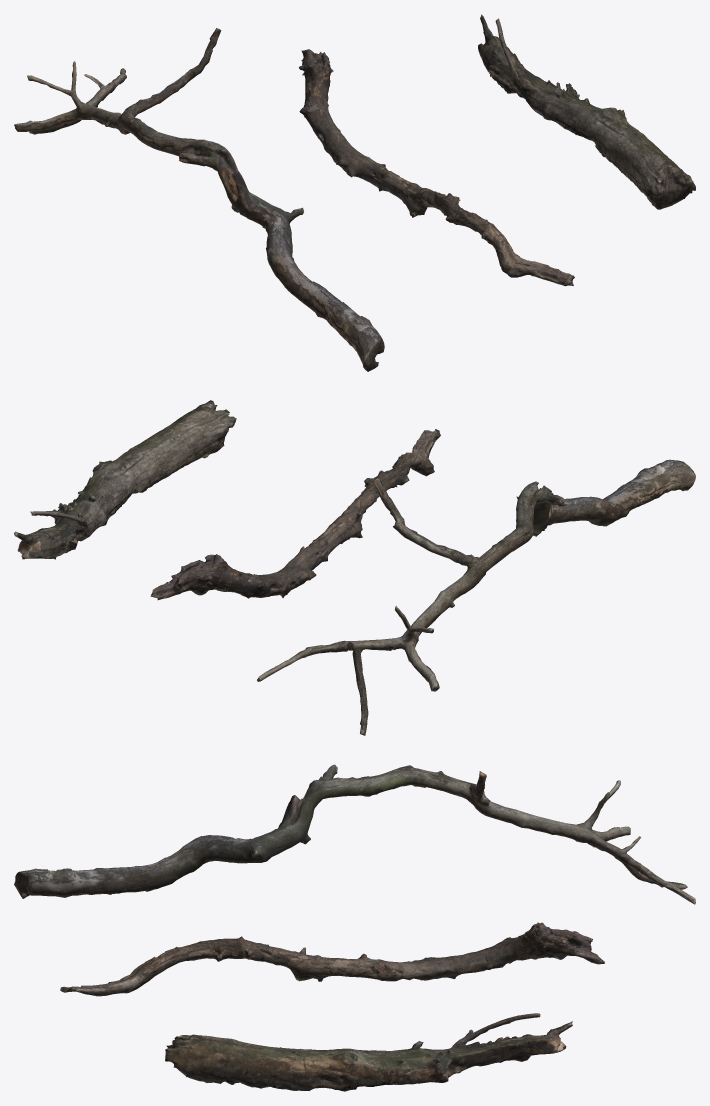
The model's file is dry_branches_medium_01.gltf.
3 renders of one model, top to bottom at view 1: azimuth 30°, elevation 25°; view 2: azimuth 150°, elevation 25°; view 3: azimuth 270°, elevation 25°, orthographic. The views are drawn at different scales.
Parts seen in each view (by area): view 1: dry_branches_medium_01_a, dry_branches_medium_01_c, dry_branches_medium_01_b; view 2: dry_branches_medium_01_a, dry_branches_medium_01_c, dry_branches_medium_01_b; view 3: dry_branches_medium_01_a, dry_branches_medium_01_c, dry_branches_medium_01_b.
Part boxes in pixels (x1,y1,x2,y2): dry_branches_medium_01_a: [14, 28, 384, 371]; dry_branches_medium_01_c: [478, 14, 695, 209]; dry_branches_medium_01_b: [299, 49, 574, 286]; dry_branches_medium_01_a: [257, 459, 695, 735]; dry_branches_medium_01_c: [14, 400, 236, 559]; dry_branches_medium_01_b: [150, 429, 440, 600]; dry_branches_medium_01_a: [14, 764, 695, 904]; dry_branches_medium_01_c: [165, 1013, 572, 1091]; dry_branches_medium_01_b: [60, 922, 604, 996].
Size of the model in its own units: 1.06 by 0.341 by 1.3.
1 material, 1 textured.
